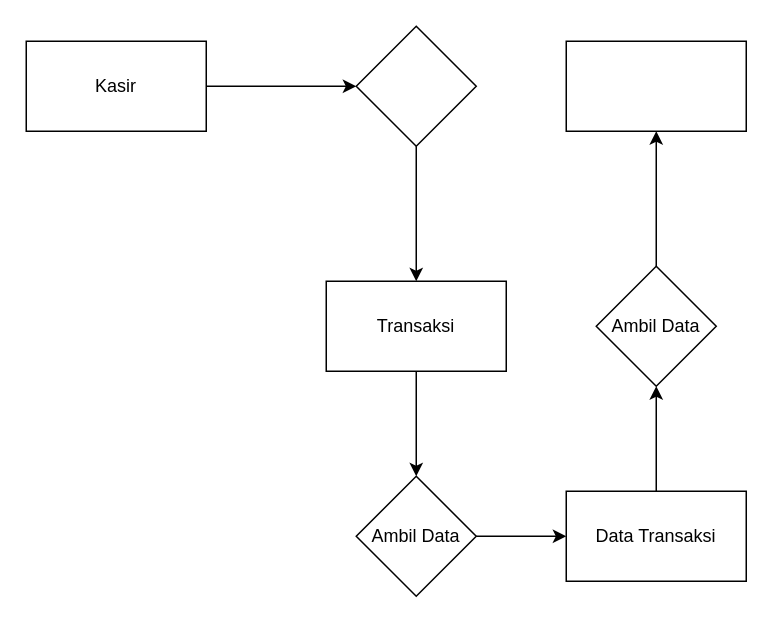
Some shapes in this 773 by 623 pixel diagram are drawn without their labels. The centre of each missing label's shape, as x and y in pixels:
"Cetak" belongs at [415,85].
"Data Barang" belongs at [655,85].
